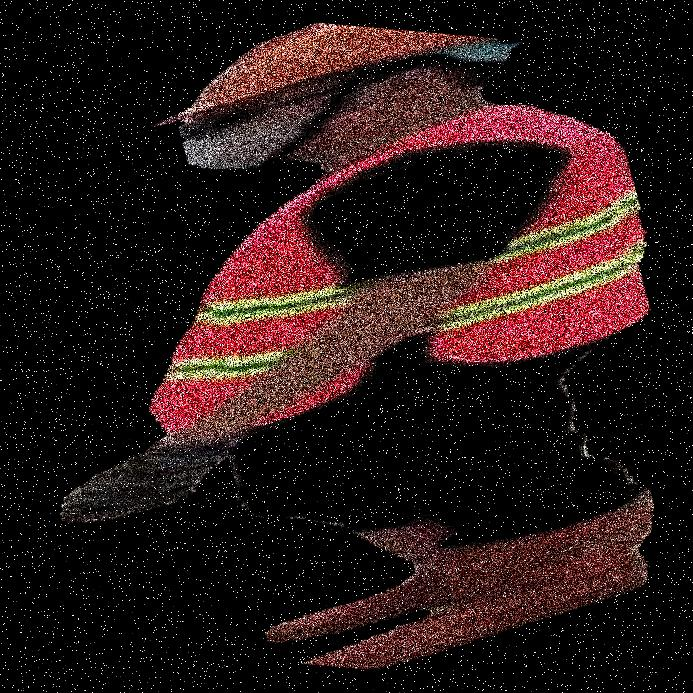Pessoa: (225, 0, 604, 692)
